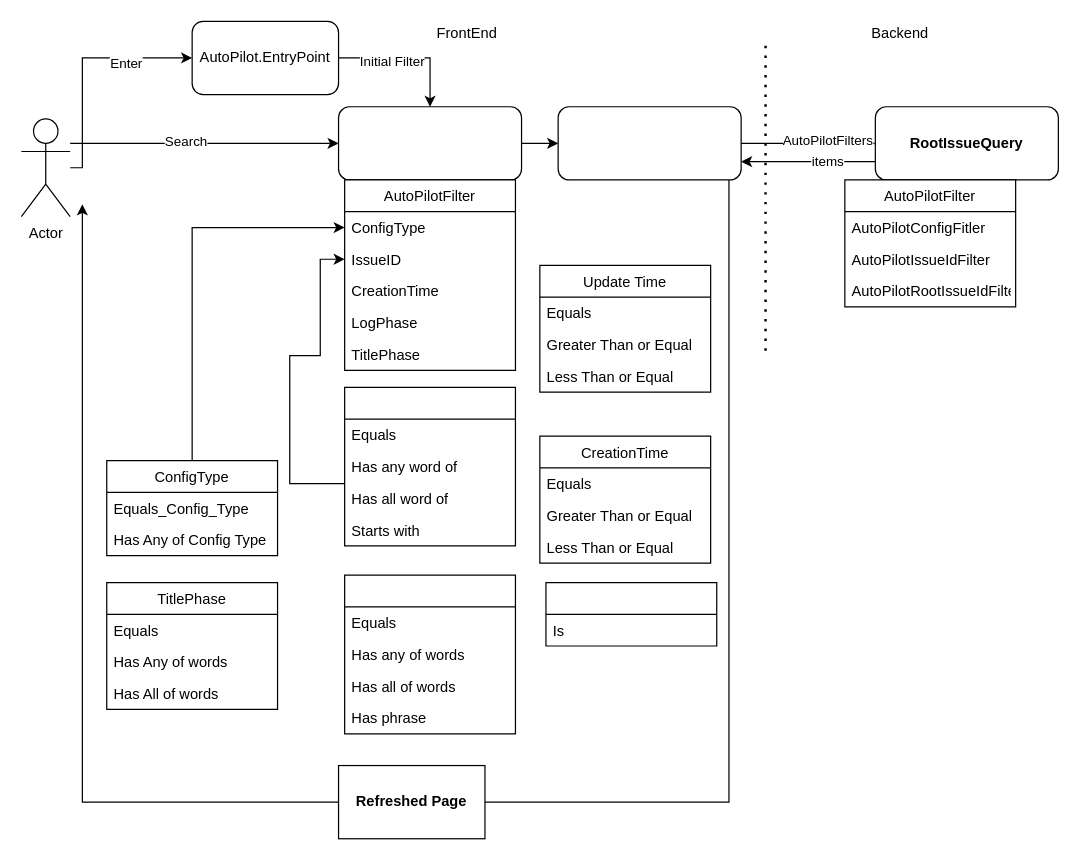
Image size: 1080x860. Some labels were removed from this diagram. Here are the shapes that lost their labels. From the top down, the box of each, then its label:
(337, 106, 522, 180): PowerSearchFilter: field:config_type /issue_id/.. operator: equals/has_any/..
(557, 106, 741, 180): UseEffect: SetAutoPilotFilters refresh URI
(343, 386, 515, 546): IssueId(String)
(545, 581, 717, 646): Status
(343, 574, 515, 734): Log(String)
